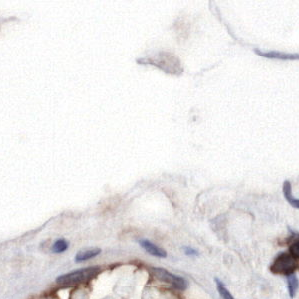Lymphocyte: (268, 235, 299, 274)
